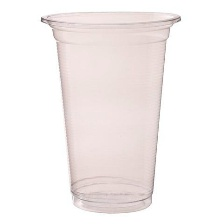glass: (37, 8, 183, 218)
